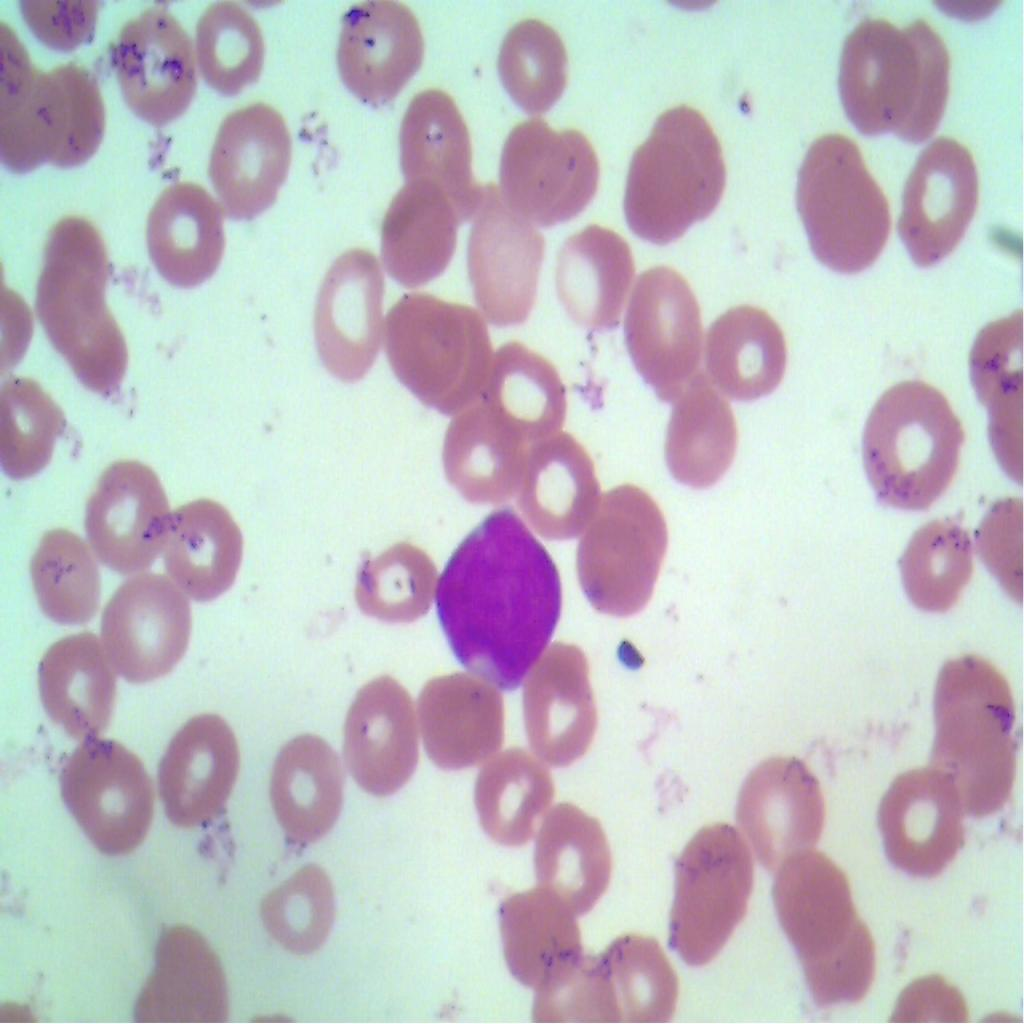Eritrosit: (786, 124, 896, 274), (882, 127, 991, 275), (656, 820, 766, 964), (858, 375, 969, 511), (866, 755, 974, 891), (382, 284, 488, 410), (302, 234, 388, 388), (321, 0, 435, 115), (58, 728, 158, 858), (884, 504, 983, 634), (399, 660, 508, 778), (493, 101, 598, 221), (206, 92, 298, 228), (458, 191, 550, 327), (151, 699, 243, 832), (469, 332, 578, 440), (518, 639, 606, 771), (736, 752, 826, 878), (609, 264, 706, 378), (823, 6, 921, 118), (549, 204, 633, 334), (928, 708, 1018, 829), (701, 284, 790, 404), (402, 84, 483, 211), (595, 904, 682, 1022), (490, 882, 586, 988), (252, 854, 346, 961), (344, 674, 422, 802), (102, 568, 191, 680), (115, 1, 195, 125), (530, 791, 614, 909), (376, 174, 466, 284), (660, 379, 746, 494), (926, 651, 1018, 758), (516, 422, 602, 536), (30, 618, 122, 724), (80, 452, 166, 564), (146, 172, 229, 288), (573, 509, 664, 614), (878, 32, 961, 147), (12, 517, 106, 618), (161, 489, 249, 594), (433, 399, 523, 501), (151, 917, 235, 1023), (653, 104, 733, 214), (613, 141, 696, 244), (355, 538, 442, 634), (486, 8, 569, 108), (773, 848, 850, 955), (804, 911, 886, 1011), (478, 744, 552, 854), (0, 372, 71, 486), (33, 59, 109, 165), (274, 726, 344, 838), (36, 215, 109, 322), (0, 62, 69, 175), (191, 0, 268, 101), (58, 298, 131, 394)
Limfoblast: (430, 506, 566, 691)
Platelet: (728, 84, 759, 118)
